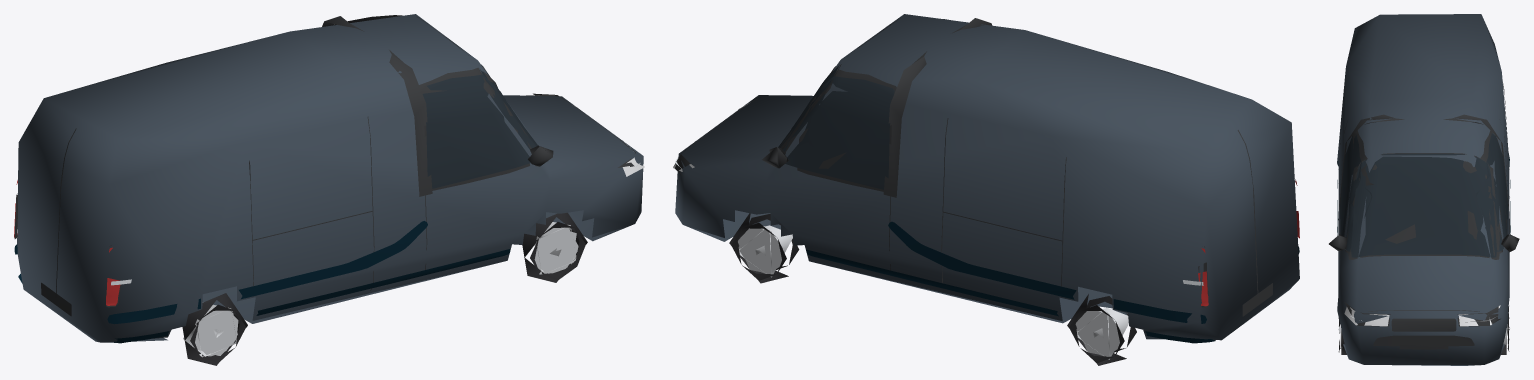
File: livr_bleu_ufar.glb
3 renders of one model, left to right at view 1: azimuth 30°, elevation 25°; view 2: azimuth 150°, elevation 25°; view 3: azimuth 270°, elevation 25°, orthographic. The views are drawn at different scales.
Parts seen in each view (by area): view 1: Body, Glass-1, WheelFR, WheelRR, LbWave-1, Bpillar-1, LbSky-1, WinFrame-1; view 2: Body, Glass1, LbWave1, WheelRL, WheelFL, Bpillar1, LbSky1, WinFrame1; view 3: Body, Windshield, Glass-1, WsFrame, Glass1, Intake, Grille, HeadReflector, HeadBezel, WinFrame-1, WinFrame1, Bpillar1 (+4 smaller).
Part boxes in pixels (box(x1,y1,x2,y2)): Body: box(17, 14, 643, 342); Glass-1: box(422, 74, 535, 188); WheelFR: box(522, 212, 587, 282); WheelRR: box(182, 293, 247, 365); LbWave-1: box(107, 221, 427, 324); Bpillar-1: box(389, 50, 432, 196); LbSky-1: box(110, 249, 510, 343); WinFrame-1: box(419, 67, 531, 190); Body: box(675, 14, 1299, 340); Glass1: box(783, 76, 894, 189); LbWave1: box(888, 221, 1206, 323); WheelRL: box(1067, 294, 1136, 365); WheelFL: box(729, 213, 799, 283); Bpillar1: box(883, 51, 926, 197); LbSky1: box(806, 249, 1215, 343); WinFrame1: box(782, 69, 896, 191); Body: box(1337, 14, 1509, 365); Windshield: box(1351, 153, 1496, 257); Glass-1: box(1340, 135, 1372, 251); WsFrame: box(1348, 153, 1499, 259); Glass1: box(1475, 133, 1507, 251); Intake: box(1373, 335, 1474, 346); Grille: box(1391, 318, 1456, 331); HeadReflector: box(1344, 305, 1500, 326); HeadBezel: box(1344, 302, 1500, 326); WinFrame-1: box(1340, 131, 1373, 253); WinFrame1: box(1480, 131, 1507, 253); Bpillar1: box(1443, 114, 1508, 209).
Bounding box in the file's own units: 5.62 × 2.31 × 2.14.
